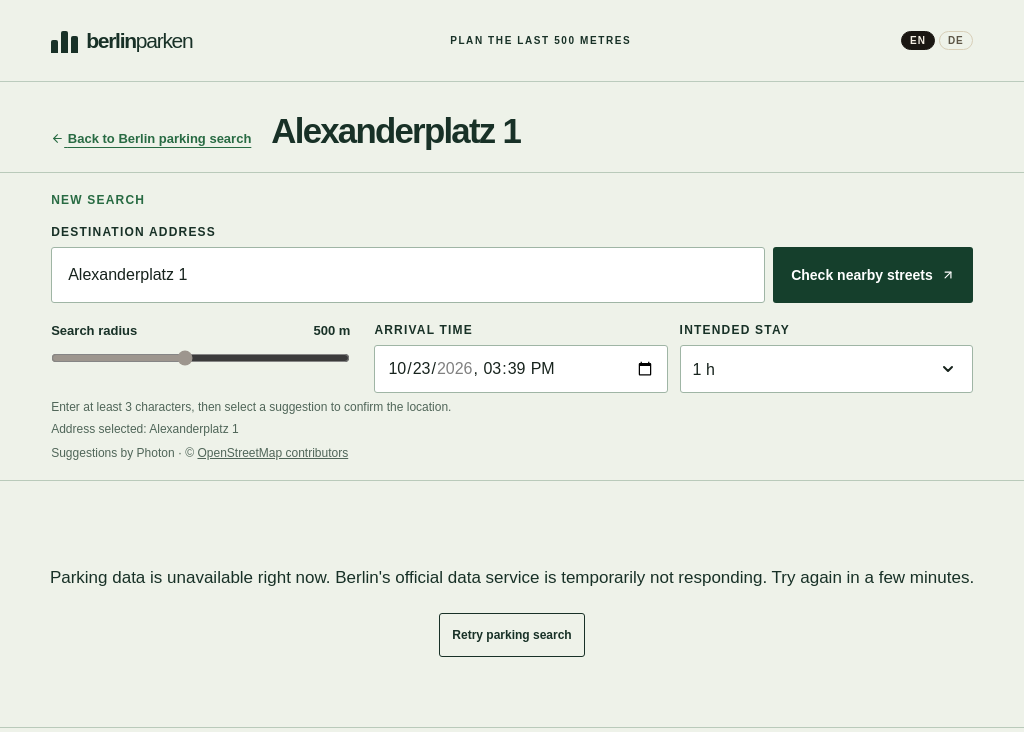
SignalResultsPage › retries a failed parking request from the results page
What coordinates should you click on to do the following:
click the button "Retry parking search"
I would click on:
 (512, 635)
Its box is [439,613,585,657].
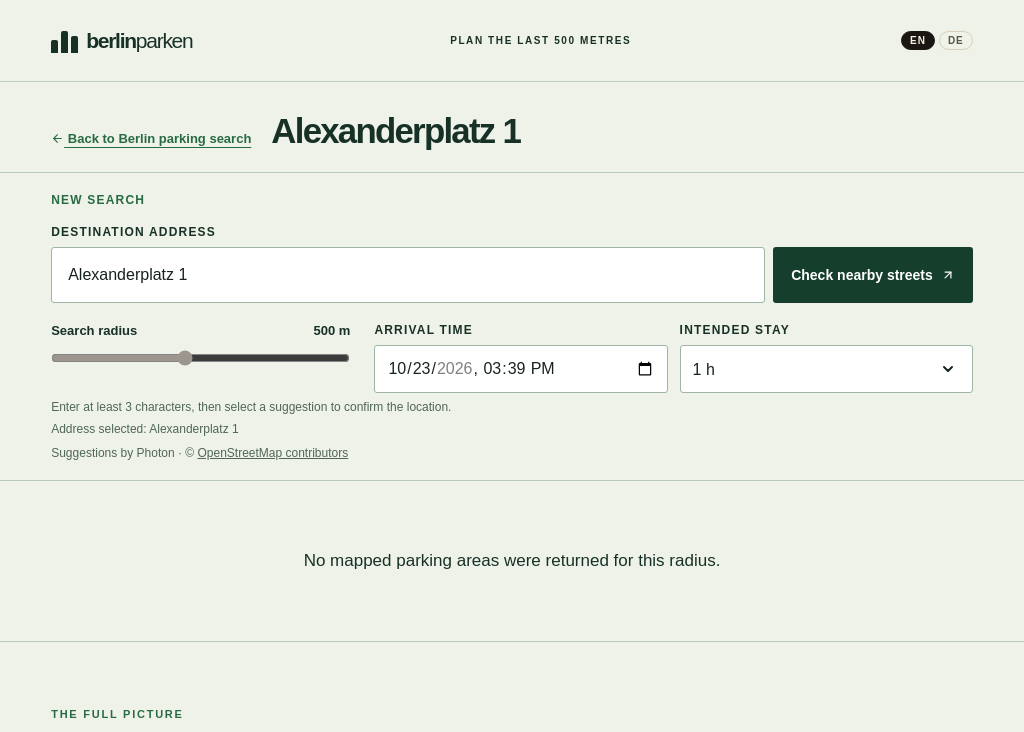
Now the text "No mapped parking areas were returned for this radius." is shown, box [304,551,720,570]
